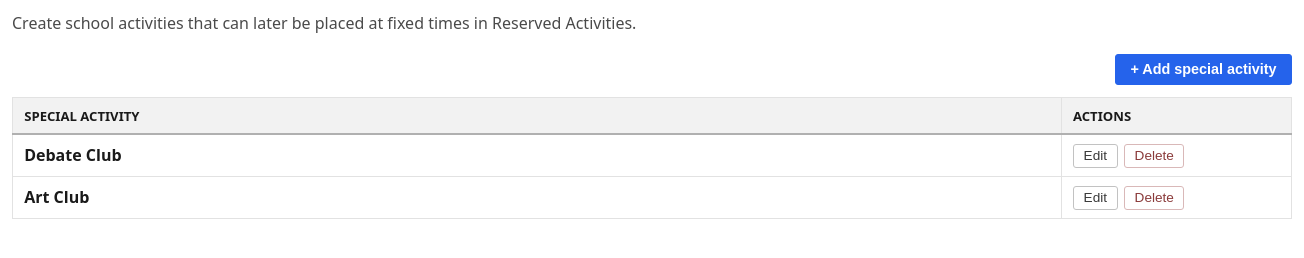
Test: SpecialActivitiesPanel › delete confirm/cancel: cancel leaves the special activity intact
Expected: the column heading "Debate Club" is shown, [12,134,1061,177]
Click the button "Delete" in the row of "Debate Club".
click(1154, 156)  # box [1124,144,1184,168]
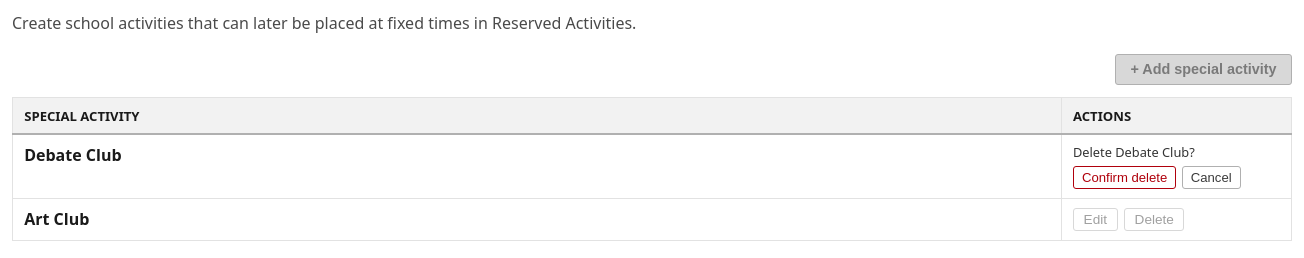
Expected: the text "Delete Debate Club?" is shown, [1073,143,1195,161]
Click the button "Cancel".
click(1211, 177)  # box [1182,166,1241,189]
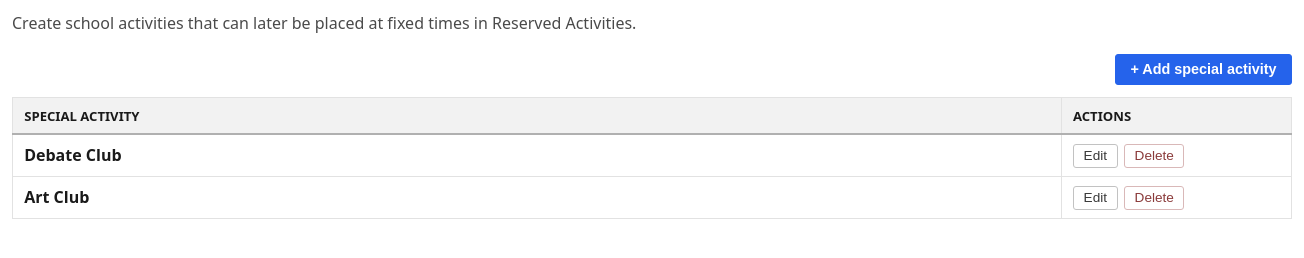
Expected: the text "Delete Debate Club?" is gone
